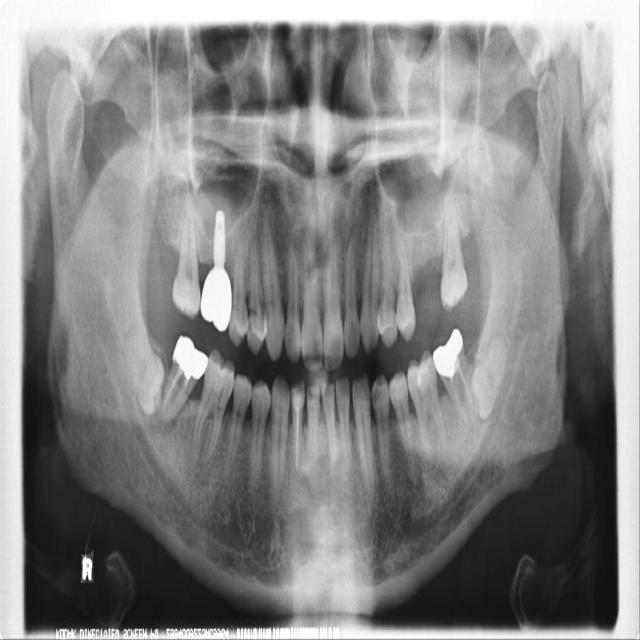Crown: (200, 267, 233, 329), (173, 335, 208, 379), (433, 329, 463, 373)
Filling: (291, 381, 304, 409)
Implant: (212, 211, 227, 270)
Missing teeth: (408, 255, 447, 325)
Periapical lesion: (149, 412, 176, 440), (457, 413, 474, 433), (204, 451, 214, 468)
Root Canal Treatment: (164, 369, 183, 407), (457, 360, 472, 407), (448, 374, 463, 412), (172, 378, 190, 407), (297, 408, 299, 461)
impacted tooth: (122, 318, 164, 415), (473, 332, 508, 421)
